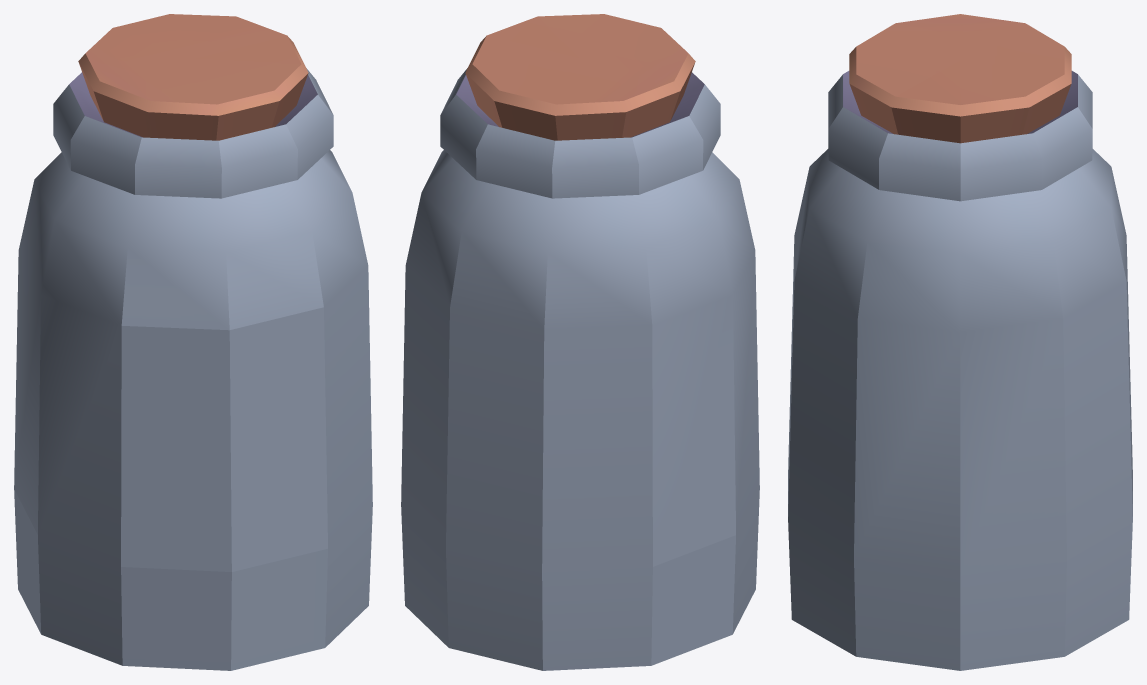
The model's file is TipJar_Mesh.fbx.
3 views of the same model, side by side, from view 1: azimuth 30°, elevation 25°; view 2: azimuth 150°, elevation 25°; view 3: azimuth 270°, elevation 25° (orthographic).
Visible parts, largest first — view 1: TipJar_Mesh; view 2: TipJar_Mesh; view 3: TipJar_Mesh.
Boxes of the visible parts, bbox=[...] form: TipJar_Mesh: bbox=[14, 14, 372, 670]; TipJar_Mesh: bbox=[401, 14, 759, 670]; TipJar_Mesh: bbox=[788, 14, 1132, 670].
Size of the model in its own units: 19.47 by 32.23 by 18.75.
1 material, 1 textured.
